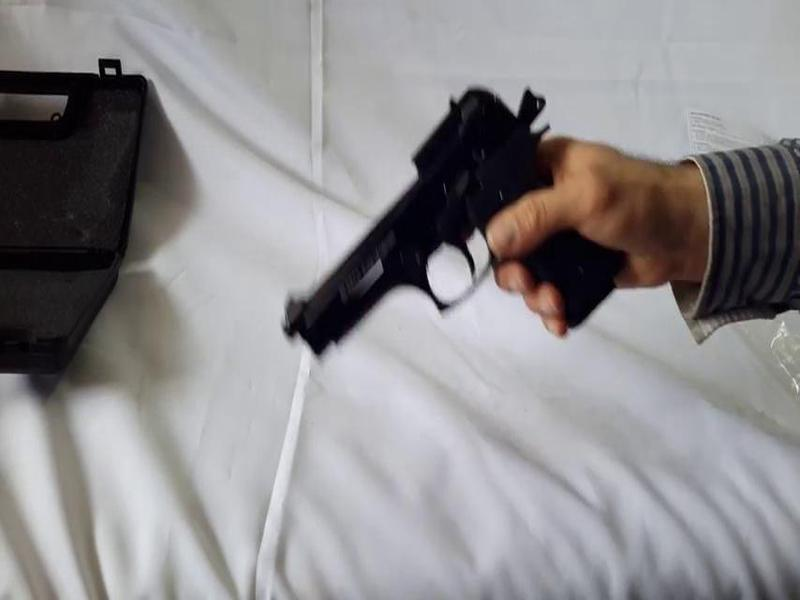Pistola: (287, 69, 626, 393)
